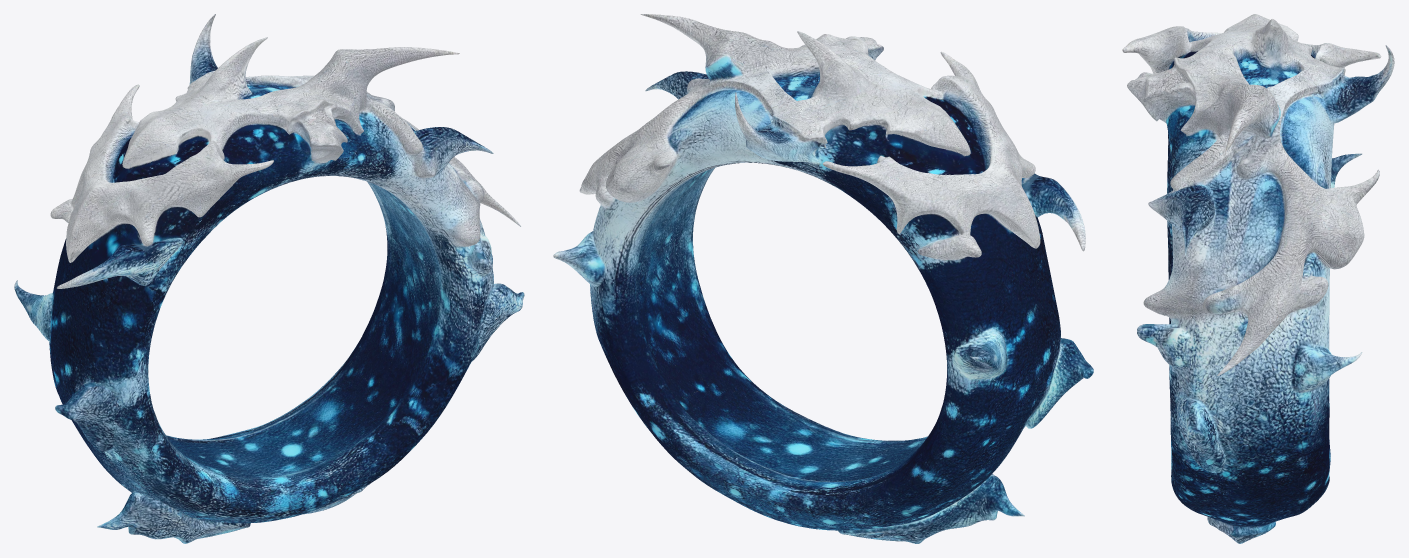
File: noir.glb
3 renders of one model, left to right at view 1: azimuth 30°, elevation 25°; view 2: azimuth 150°, elevation 25°; view 3: azimuth 270°, elevation 25°, orthographic. The views are drawn at different scales.
Visible parts, largest first — view 1: Mesh_0; view 2: Mesh_0; view 3: Mesh_0.
Boxes of the visible parts, <box> form: Mesh_0: <box>14,14,524,543</box>; Mesh_0: <box>553,14,1093,543</box>; Mesh_0: <box>1122,14,1394,543</box>.
Bounding box in the file's own units: 0.0731 × 0.07 × 0.035.
Materials: 1 (1 with a texture image).
